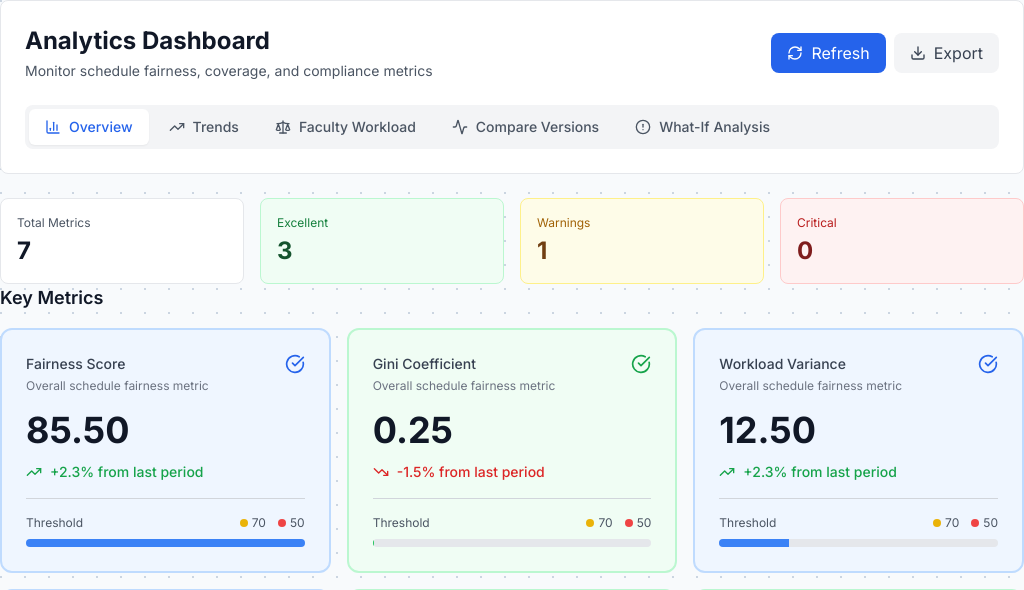
AnalyticsDashboard › View Content Rendering › should show what-if content when what-if tab selected
Expected: the text "What-If Analysis" is shown, [659,117,770,137]
Click the tab "What-If Analysis" at {"x": 702, "y": 127}, box [619,109,786,145]
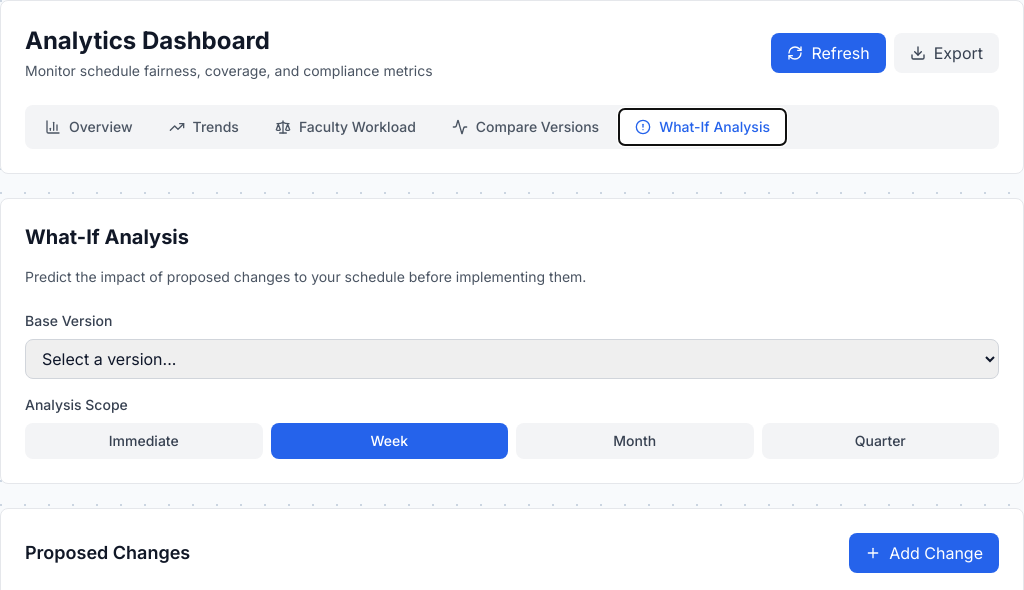
Result: the text "Predict the impact of proposed changes to your schedule" is shown at [25,268,586,285]
